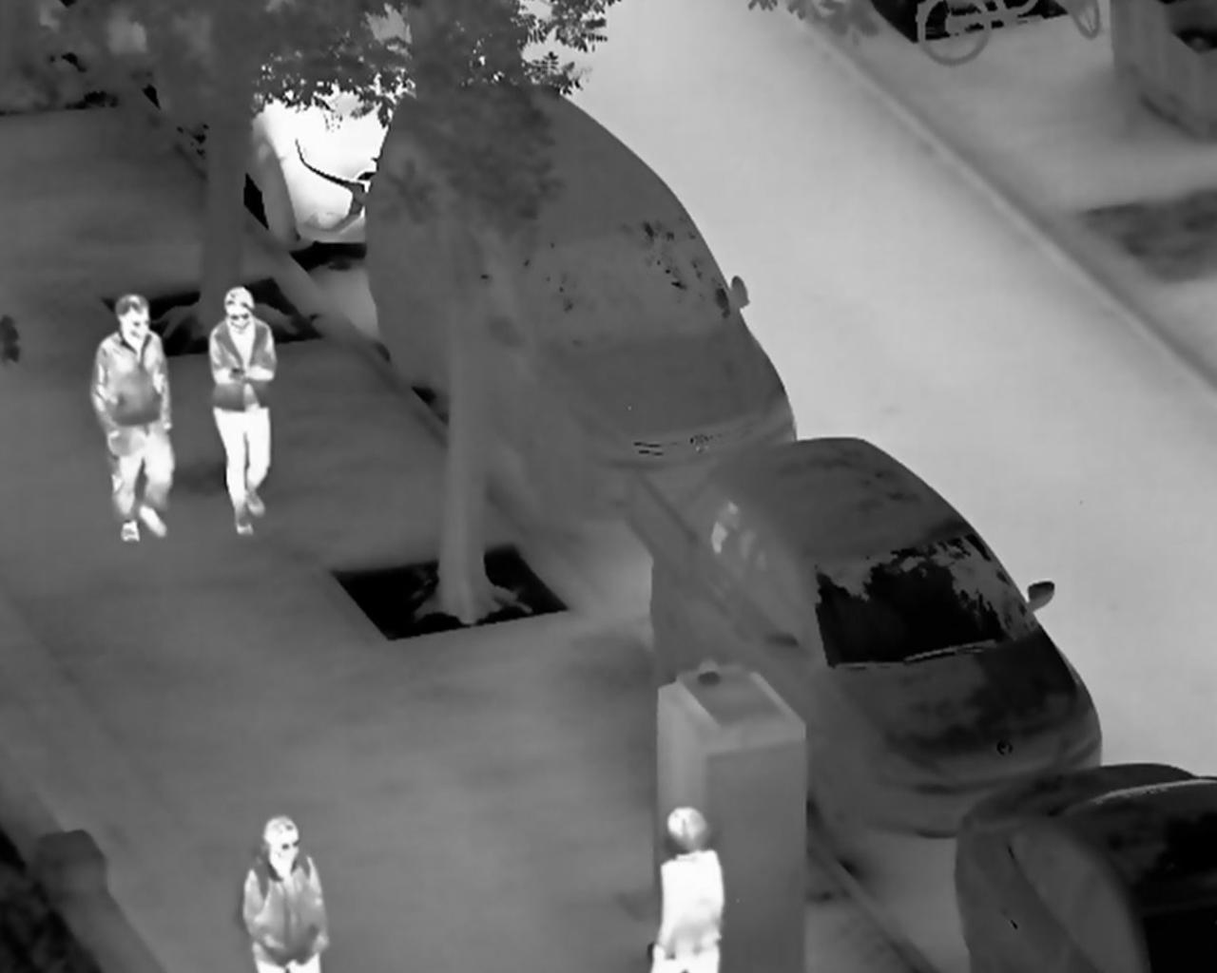person: (87, 290, 179, 545), (205, 284, 280, 541), (241, 814, 333, 973), (645, 805, 728, 973)
